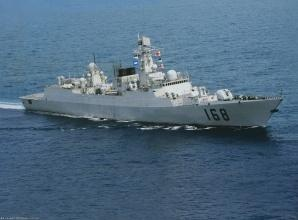warship: (16, 38, 281, 126)
